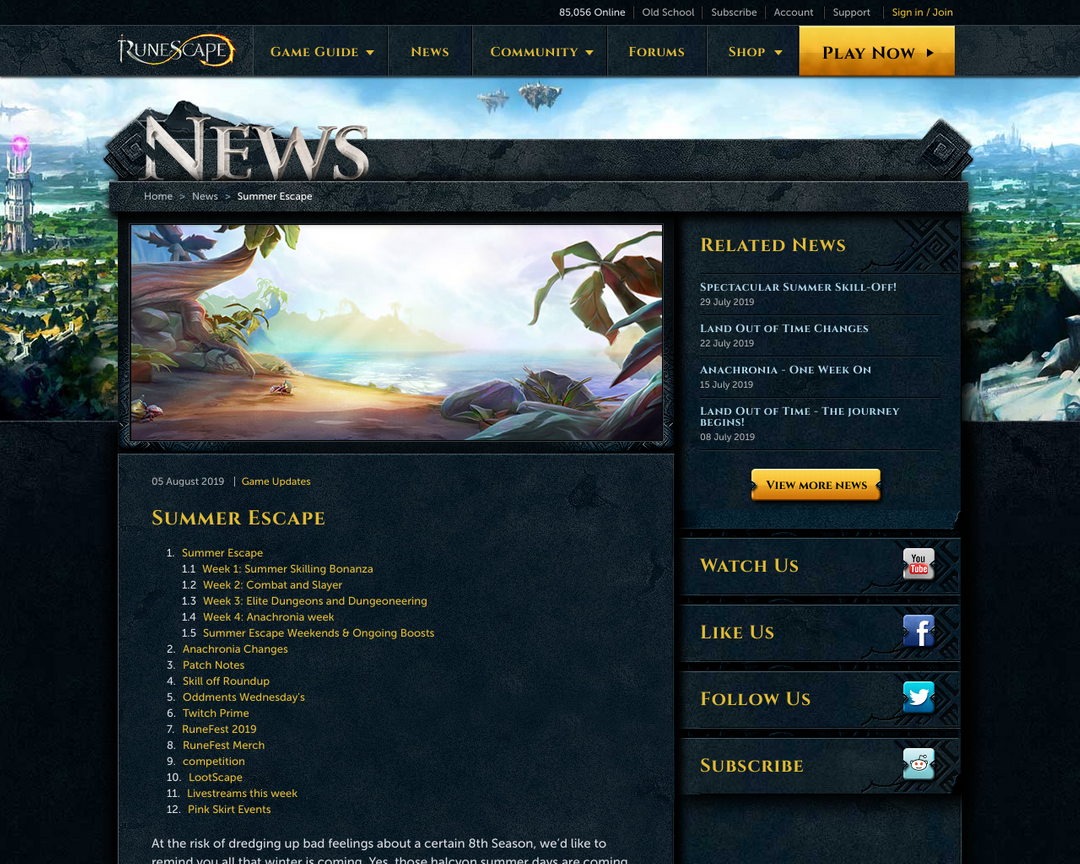Runescape: (111, 23, 243, 69)
